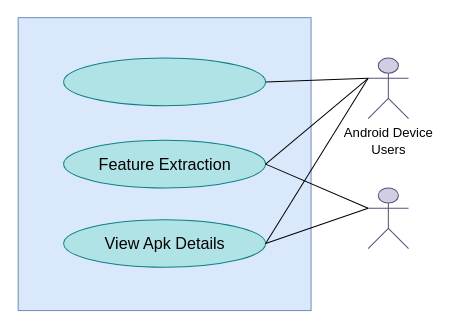
This 449x328 diagram has some shape labels left out. The centre of each missing label's shape, as x and y in pixels:
"Android App Developers" goes at point (388, 218).
"Apk Extraction" goes at point (164, 81).
